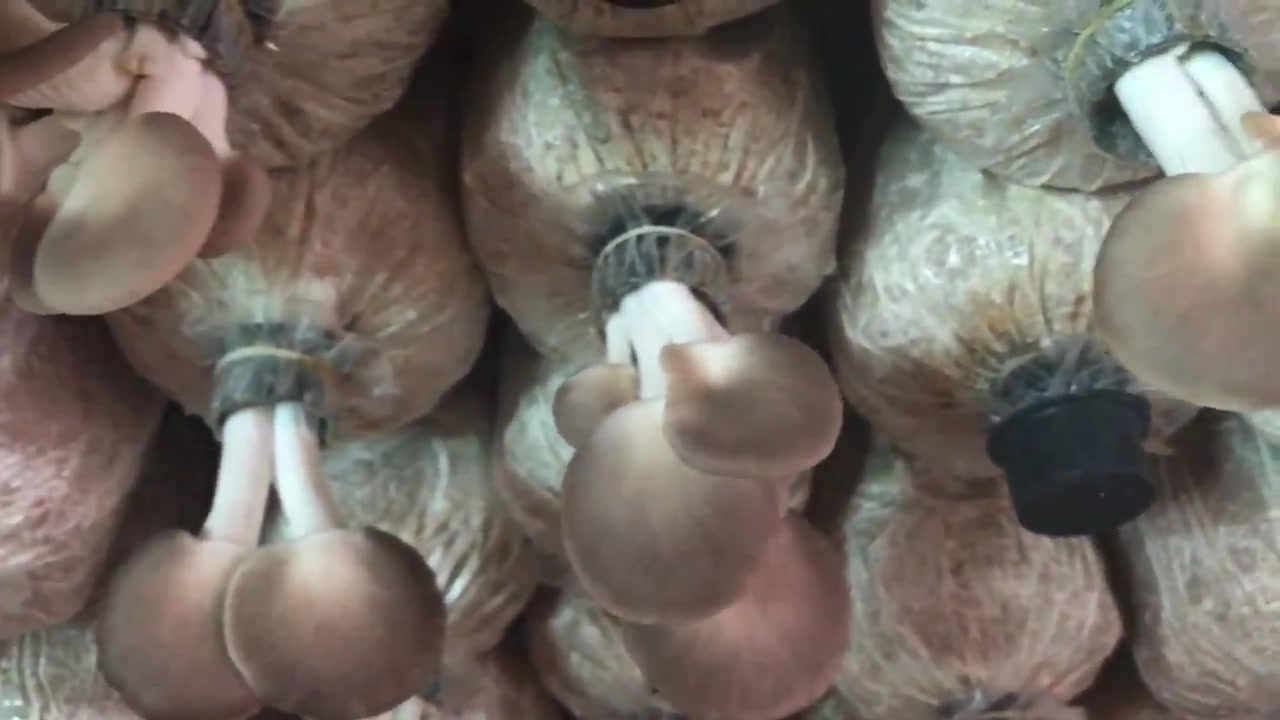nam: (552, 231, 849, 720), (96, 348, 444, 720), (1067, 1, 1278, 412), (2, 1, 274, 318)
